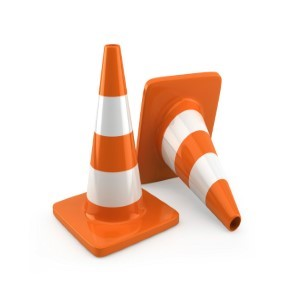traffic cone: (52, 44, 179, 257), (135, 71, 241, 231)
